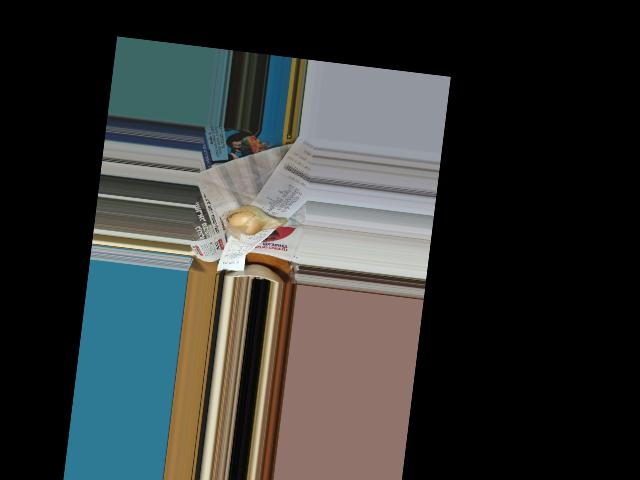onion: (224, 204, 280, 237)
